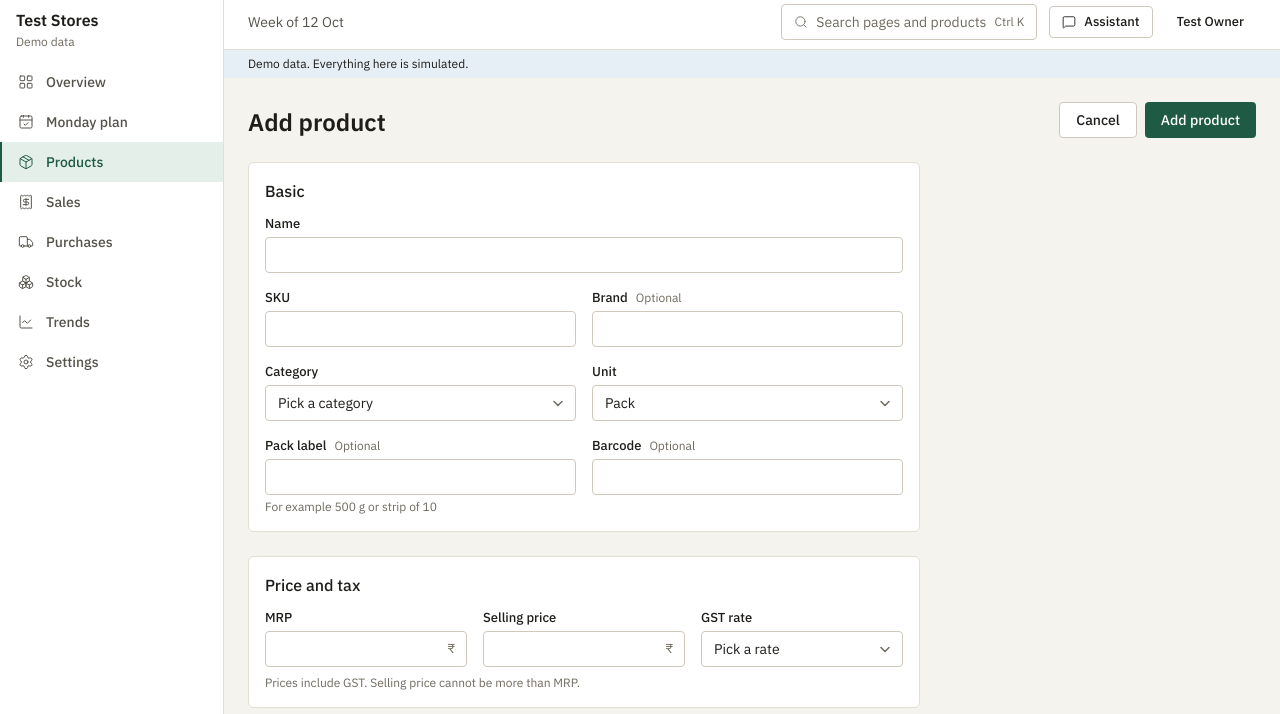
Test: product form › names every missing field in plain words on submit
The image size is (1280, 714).
What coordinates should you click on to do the following:
click the button "Add product"
I would click on:
 (1200, 120)
Its box is [1145, 102, 1256, 138].
(page scrolled)
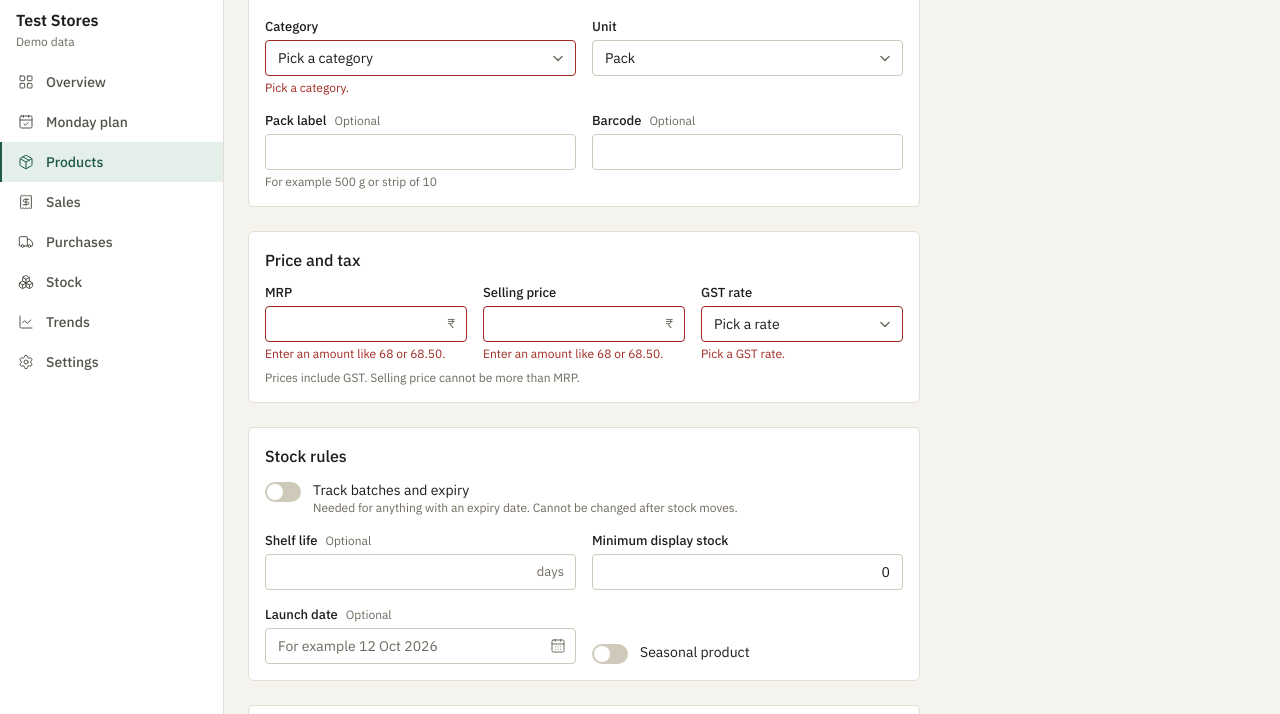
Check: the text "Pick a category." is shown, box [265, 80, 349, 95]
Check: the text "Pick a GST rate." is shown, box [701, 346, 785, 361]
Check: the text "Enter an amount like 68 or 68.50." is shown 2 times, box [265, 346, 467, 362]; [483, 346, 685, 362]
